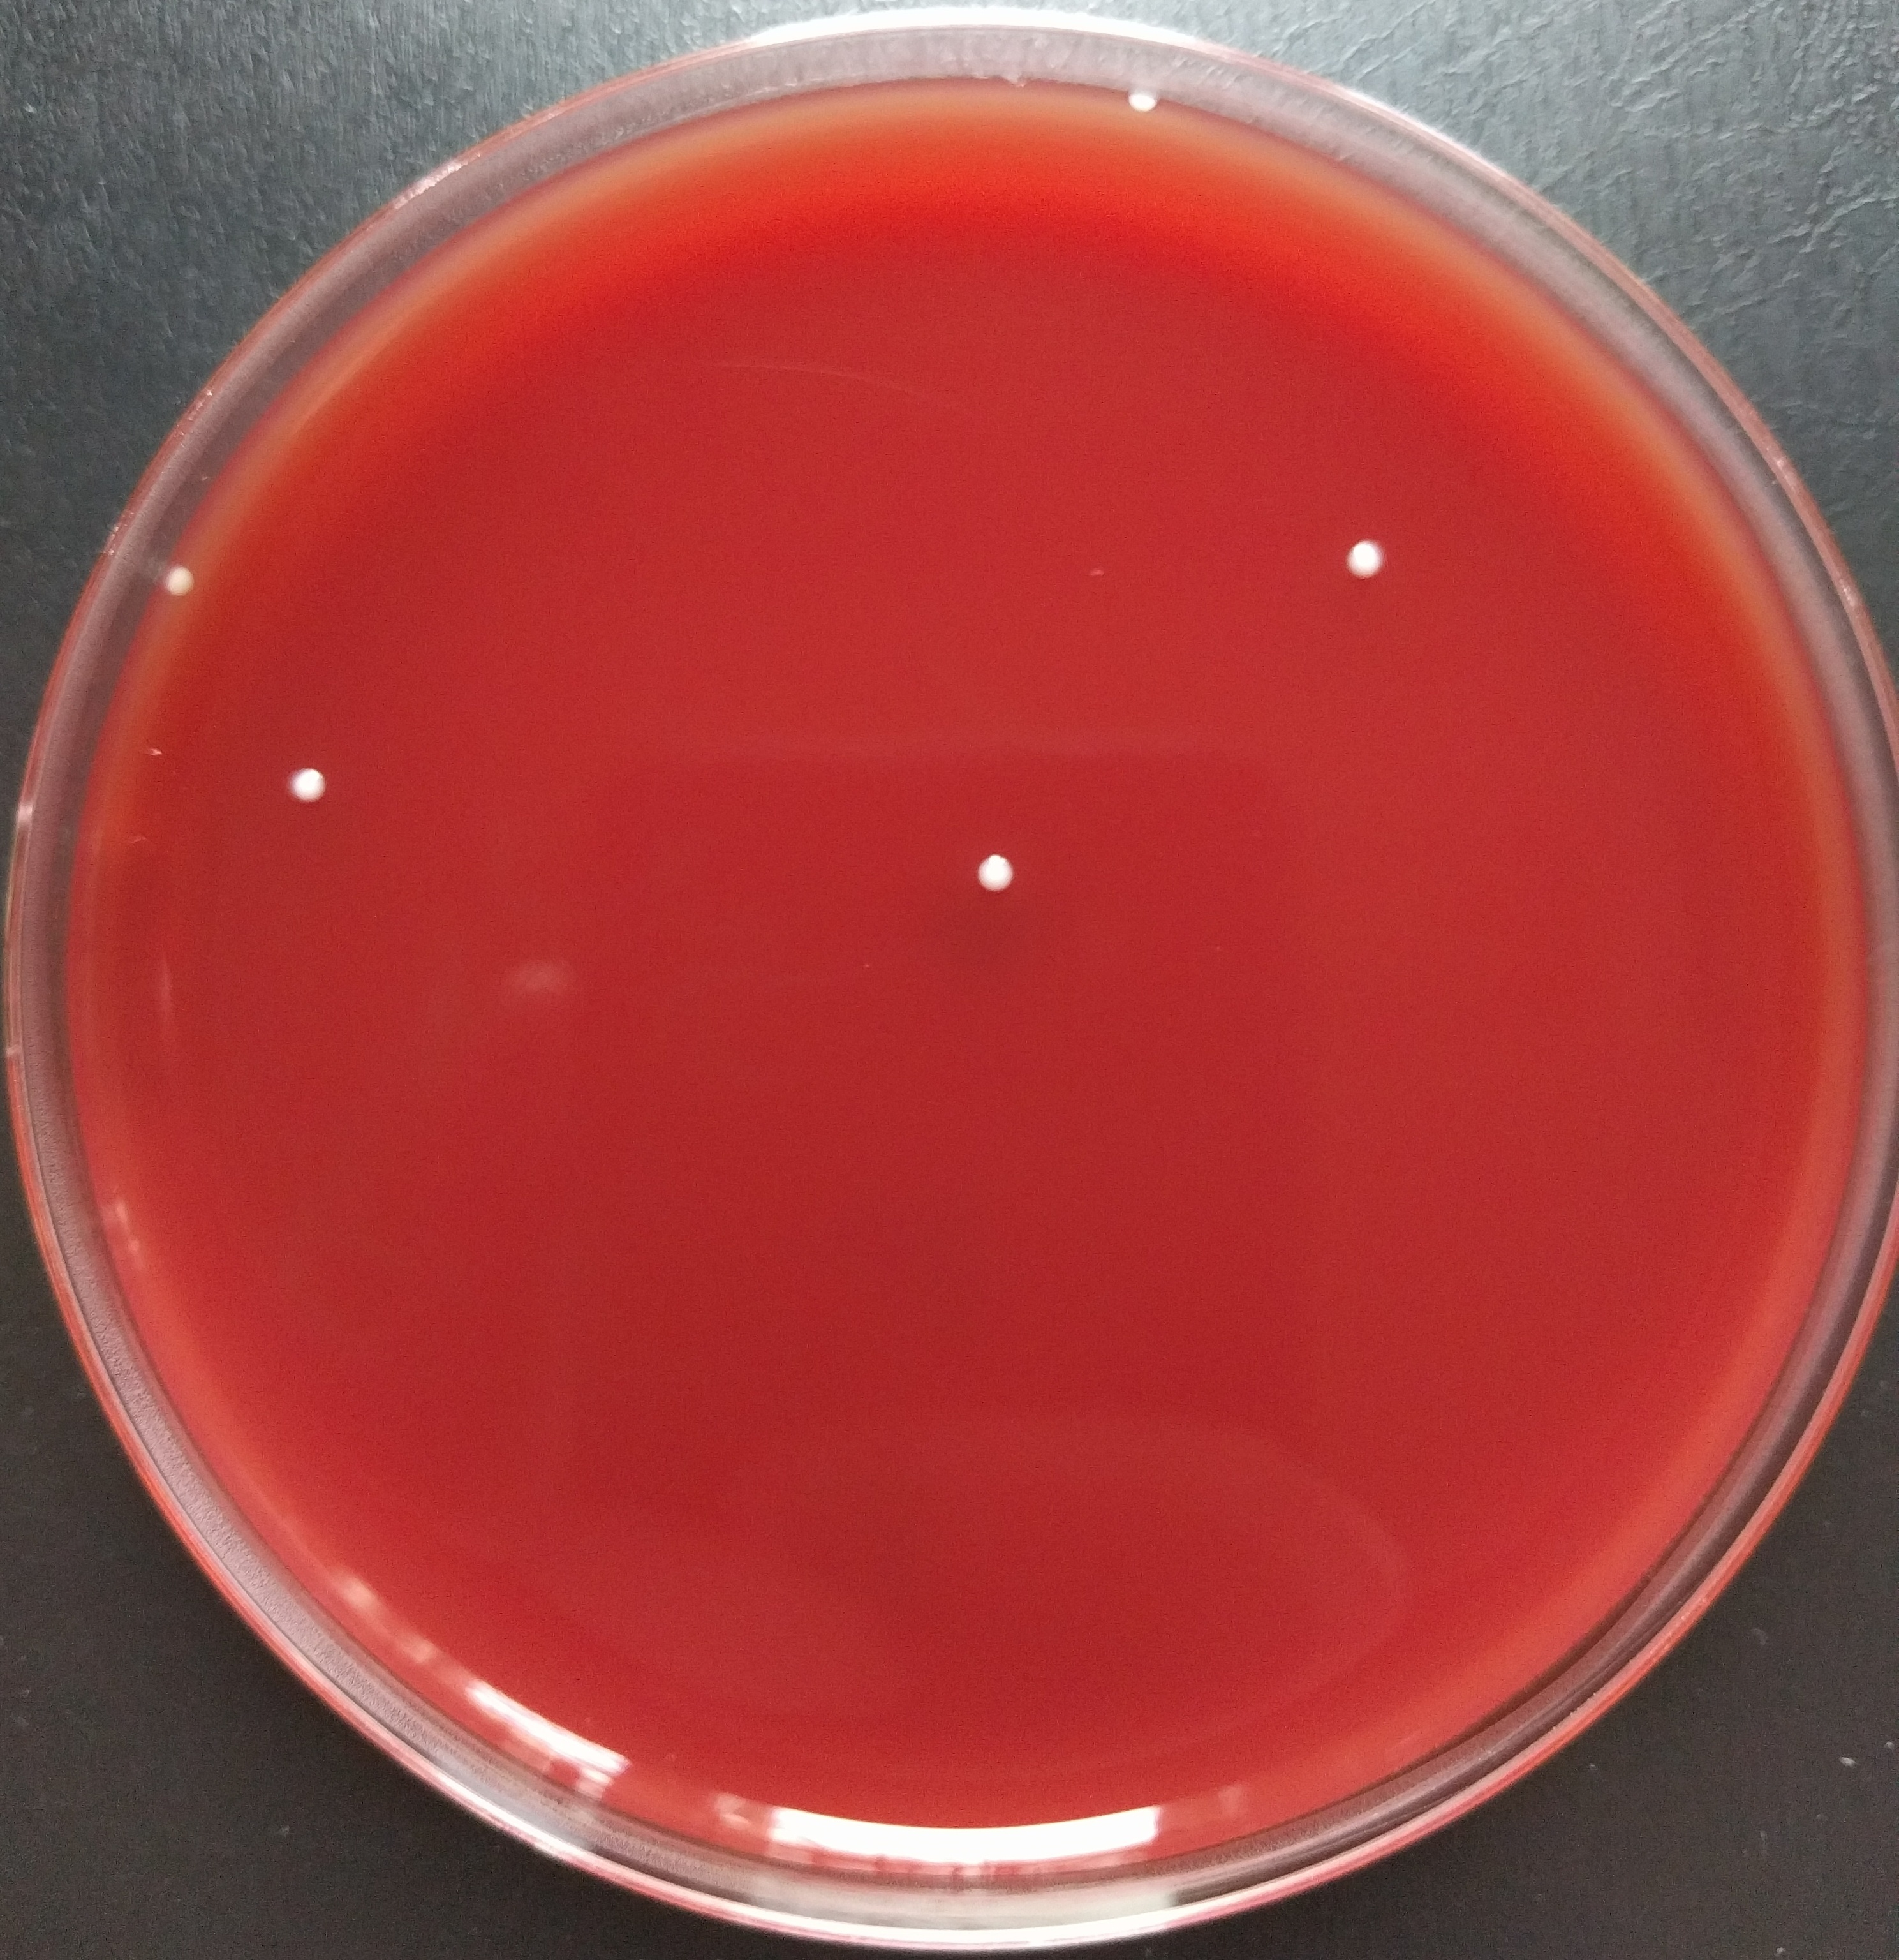sp24: (1320, 523, 1405, 593), (278, 749, 355, 814), (961, 844, 1036, 906), (1110, 68, 1180, 128), (156, 551, 215, 616)
